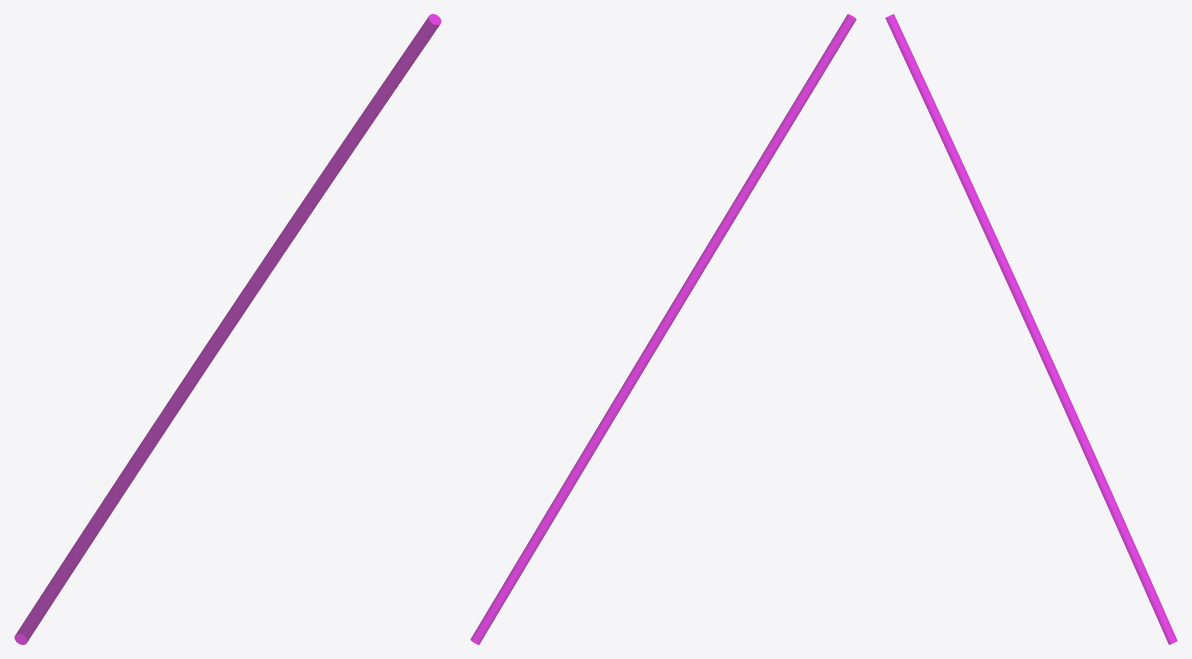
File: Event_75125125_electron_0.fbx
The picture shows the model from 3 angles, left to right: view 1: azimuth 90°, elevation 25°; view 2: azimuth 150°, elevation 25°; view 3: azimuth 270°, elevation 25°; orthographic projection. The views are drawn at different scales.
Parts seen in each view (by area): view 1: Model; view 2: Model; view 3: Model.
Part boxes in pixels (x1,y1,x2,y2): Model: [14, 14, 441, 644]; Model: [470, 14, 856, 644]; Model: [885, 14, 1177, 644].
Size of the model in its own units: 1.03 by 2.43 by 1.21.
